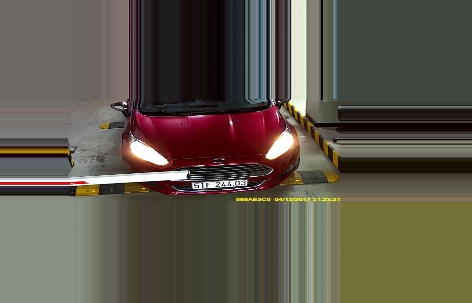plate: (187, 178, 250, 190)
